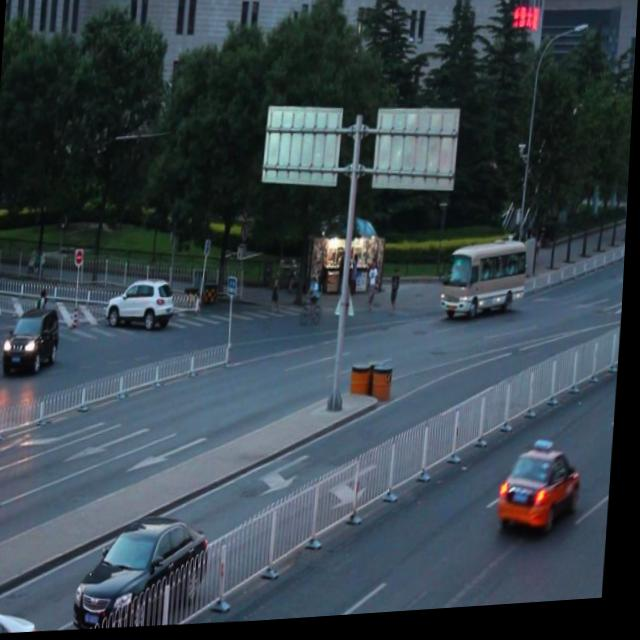car: (80, 514, 217, 633), (499, 450, 584, 540), (2, 305, 64, 376), (107, 278, 178, 337), (0, 598, 48, 635)
truck: (445, 244, 529, 322)
